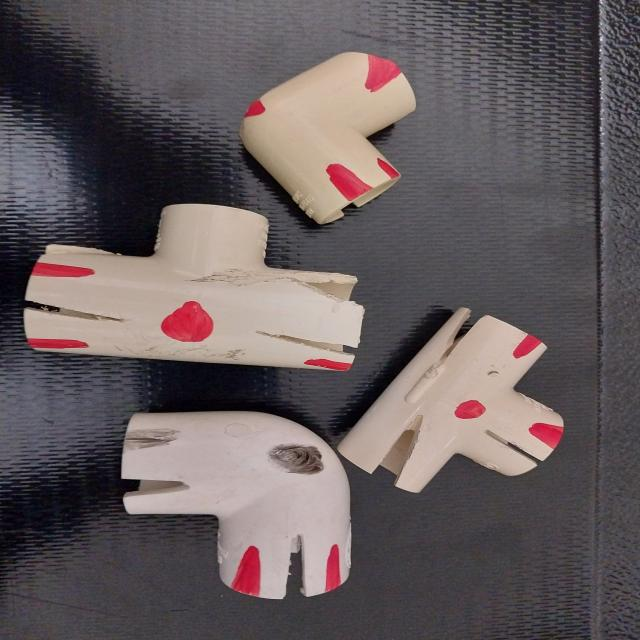Defective: (365, 421, 417, 476), (160, 302, 213, 344), (434, 318, 474, 373), (283, 272, 358, 301), (485, 431, 544, 466), (263, 332, 349, 353), (266, 446, 322, 476), (226, 548, 259, 598), (33, 306, 125, 323), (328, 168, 370, 202), (364, 56, 402, 93), (322, 545, 347, 593), (198, 270, 278, 284), (31, 264, 94, 281), (529, 420, 563, 451), (29, 339, 86, 355), (287, 548, 304, 599), (454, 400, 487, 424), (513, 337, 545, 361), (135, 481, 185, 495), (305, 360, 351, 374), (129, 435, 172, 448), (379, 159, 398, 178), (27, 303, 61, 313), (245, 101, 264, 118)
L Joint: (119, 412, 351, 602), (238, 52, 417, 229)
T Joint: (21, 205, 363, 374), (337, 307, 564, 496)
